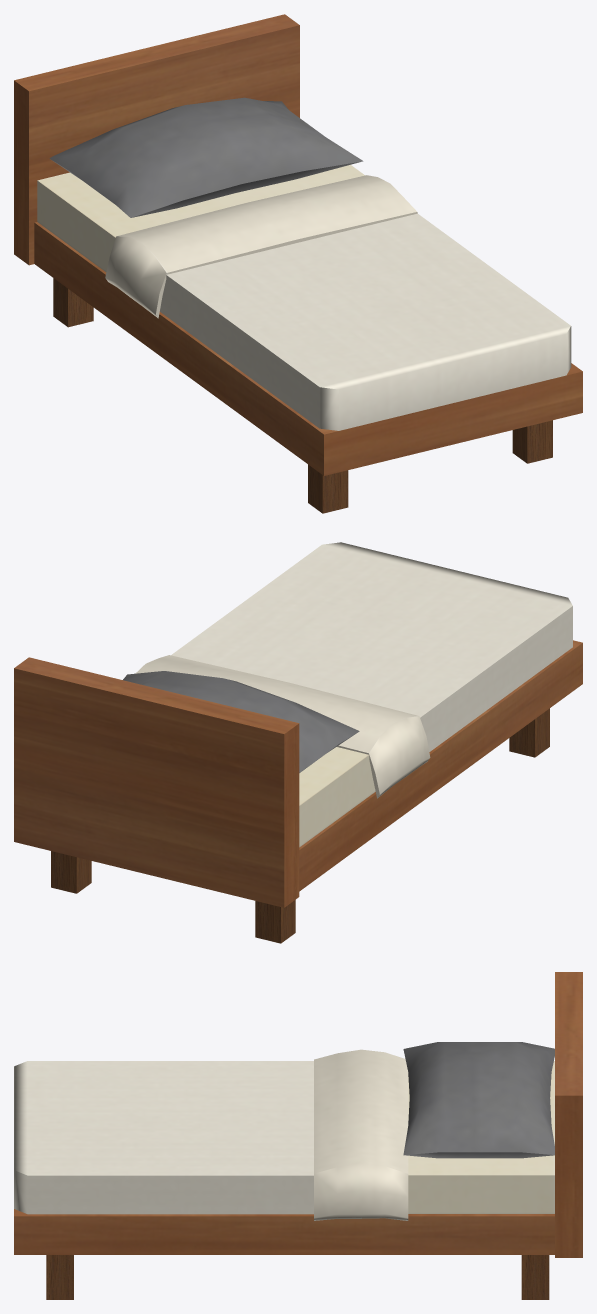
Rendered from Bed_2B.fbx.
3 views of the same model, one above another, from view 1: azimuth 30°, elevation 25°; view 2: azimuth 150°, elevation 25°; view 3: azimuth 270°, elevation 25° (orthographic). The views are drawn at different scales.
Parts seen in each view (by area): view 1: polySurface1216; view 2: polySurface1216; view 3: polySurface1216.
Part boxes in pixels (bbox=[...]): polySurface1216: bbox=[14, 14, 582, 513]; polySurface1216: bbox=[14, 542, 582, 943]; polySurface1216: bbox=[14, 972, 582, 1299].
Size of the model in its own units: 2.11 by 1.65 by 4.
